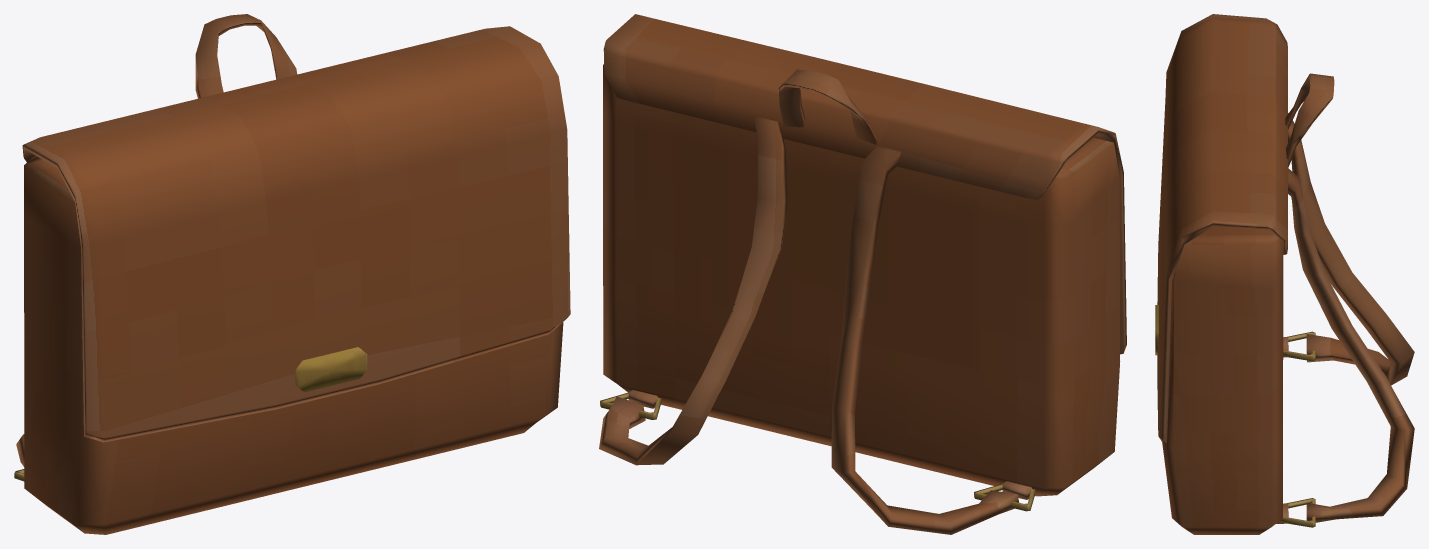
Rendered from a_sch_entrance01_obj_leather_bag02.gltf.
The picture shows the model from 3 angles, left to right: view 1: azimuth 30°, elevation 25°; view 2: azimuth 150°, elevation 25°; view 3: azimuth 270°, elevation 25°; orthographic projection. The views are drawn at different scales.
Parts seen in each view (by area): view 1: a_sch_entrance01_obj_leather_bag02_mesh_shape:a_sch_class1a_; view 2: a_sch_entrance01_obj_leather_bag02_mesh_shape:a_sch_class1a_; view 3: a_sch_entrance01_obj_leather_bag02_mesh_shape:a_sch_class1a_.
Part boxes in pixels (x1,y1,x2,y2): a_sch_entrance01_obj_leather_bag02_mesh_shape:a_sch_class1a_: (14, 14, 570, 534); a_sch_entrance01_obj_leather_bag02_mesh_shape:a_sch_class1a_: (599, 14, 1126, 534); a_sch_entrance01_obj_leather_bag02_mesh_shape:a_sch_class1a_: (1155, 14, 1414, 534).
Size of the model in its own units: 0.3854 by 0.3121 by 0.2051.
Materials: 1 (1 with a texture image).
